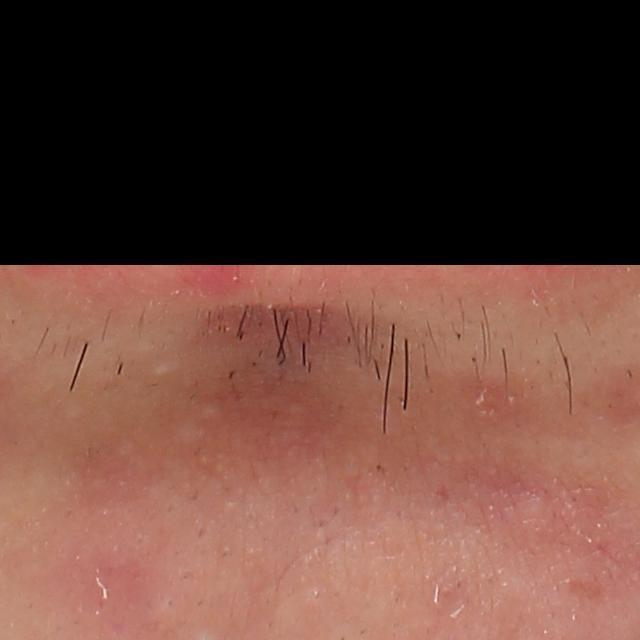hypertrophic_scar: (148, 596, 181, 638), (153, 359, 180, 374)
